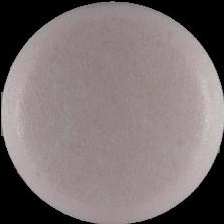68084-561: (0, 0, 224, 224)
